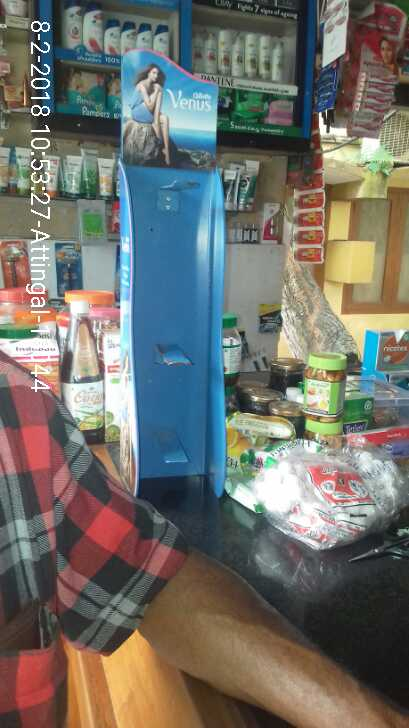beauty: (194, 30, 220, 77), (83, 4, 106, 51), (57, 6, 82, 45), (272, 39, 290, 87), (218, 27, 234, 78), (258, 34, 276, 79), (232, 33, 248, 79), (104, 18, 120, 59), (154, 20, 172, 54), (118, 19, 138, 48), (248, 31, 258, 80), (138, 26, 154, 48)
pharmacy: (229, 94, 270, 123), (72, 70, 102, 106), (267, 92, 297, 128)
